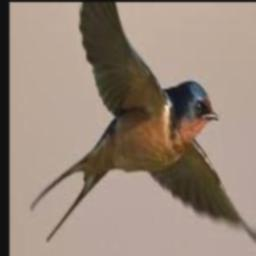Swallow: (31, 2, 256, 256)
